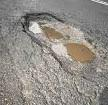pothole: (22, 10, 99, 77)
